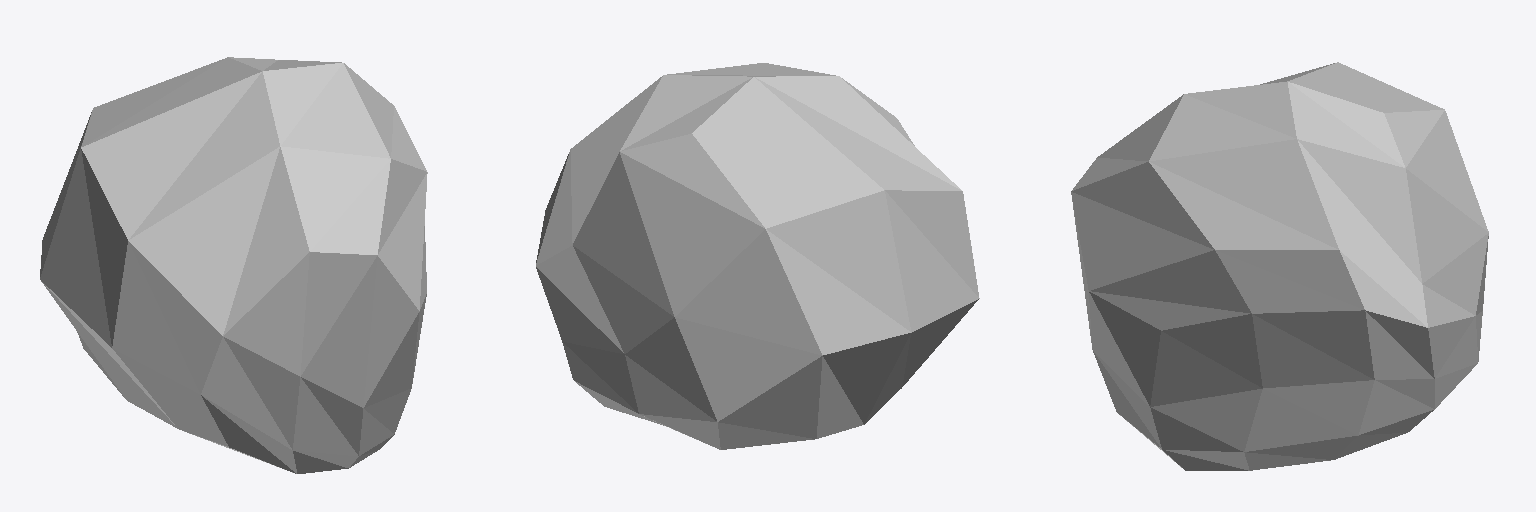
Rendered from rock2.obj.
The picture shows the model from 3 angles: view 1: azimuth 30°, elevation 25°; view 2: azimuth 150°, elevation 25°; view 3: azimuth 270°, elevation 25°; orthographic projection.
Visible parts, largest first — view 1: Cube; view 2: Cube; view 3: Cube.
Boxes of the visible parts, <box> form: Cube: <box>40,57,427,473</box>; Cube: <box>536,63,979,449</box>; Cube: <box>1071,62,1488,470</box>.
Bounding box in the file's own units: 4.52 × 4.31 × 4.55.